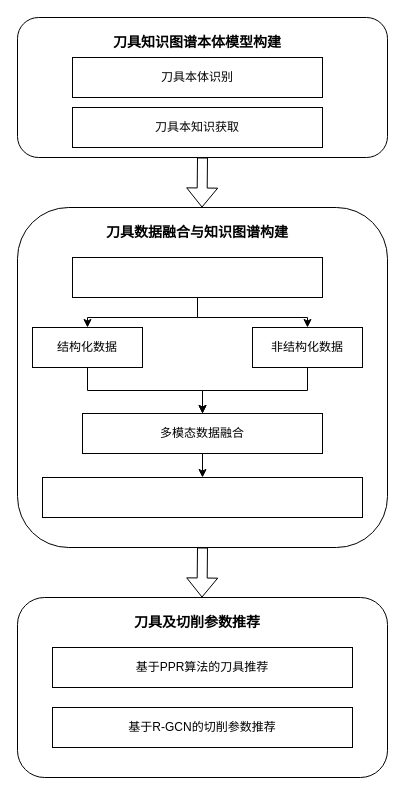
This 405x795 diagram has some shape labels left out. The box of each missing label's shape, as (x1, y1, x2, y2) in pixels:
刀具的多元加权知识图谱: (42, 476, 362, 518)
多源异构数据: (72, 256, 322, 298)
